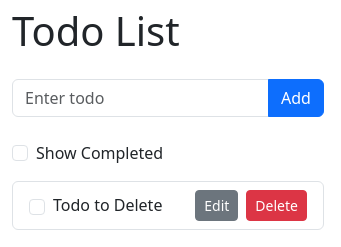
Test: Todo App Integration Tests › deletes a todo
The image size is (341, 247).
expect the text "Todo to Delete" is shown: met, box [53, 193, 162, 217]
Click the button "Delete".
click(277, 205)  # box [246, 190, 307, 220]
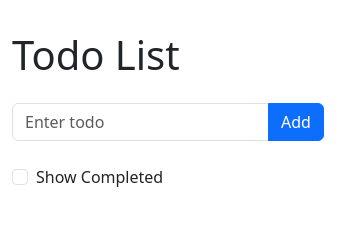
expect the text "Todo to Delete" is gone: met
